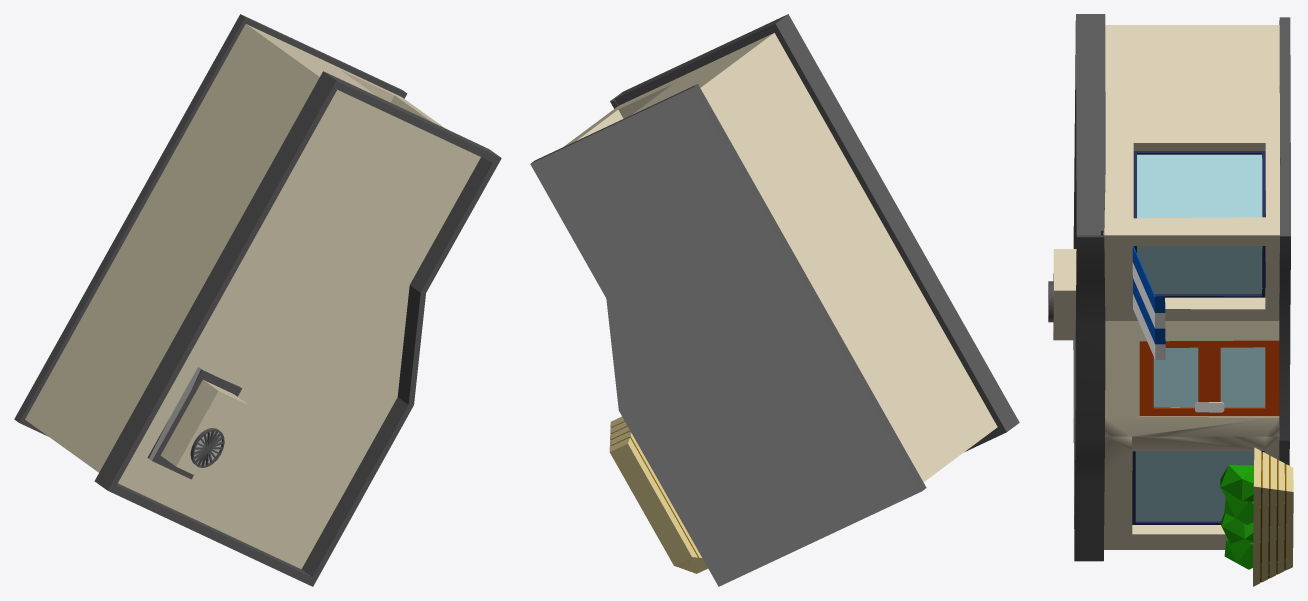
File: shop.glb
The picture shows the model from 3 angles, left to right: view 1: azimuth 30°, elevation 25°; view 2: azimuth 150°, elevation 25°; view 3: azimuth 270°, elevation 25°; orthographic projection. The views are drawn at different scales.
Visible parts, largest first — view 1: Shop; view 2: Shop; view 3: Shop.
Boxes of the visible parts, box(x1,y1,x2,y2) form: Shop: box(14, 14, 501, 586); Shop: box(530, 14, 1019, 586); Shop: box(1048, 14, 1293, 586).
Bounding box in the file's own units: 2.91 × 3.37 × 1.33.
